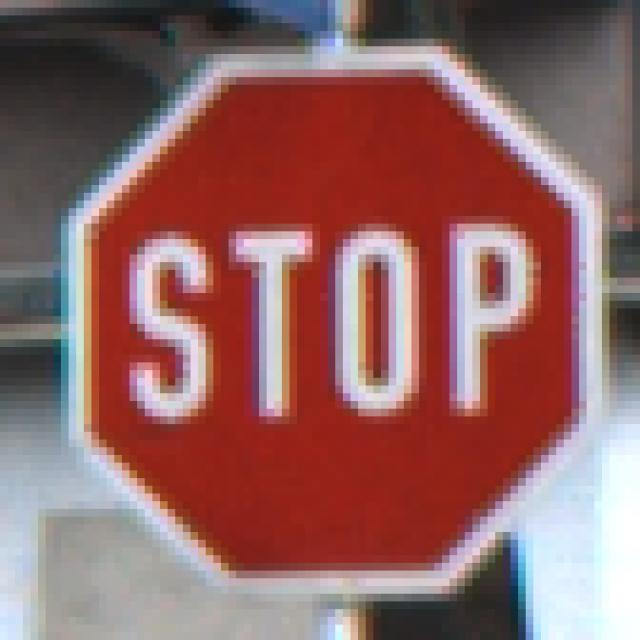STOP: (62, 55, 588, 587)
